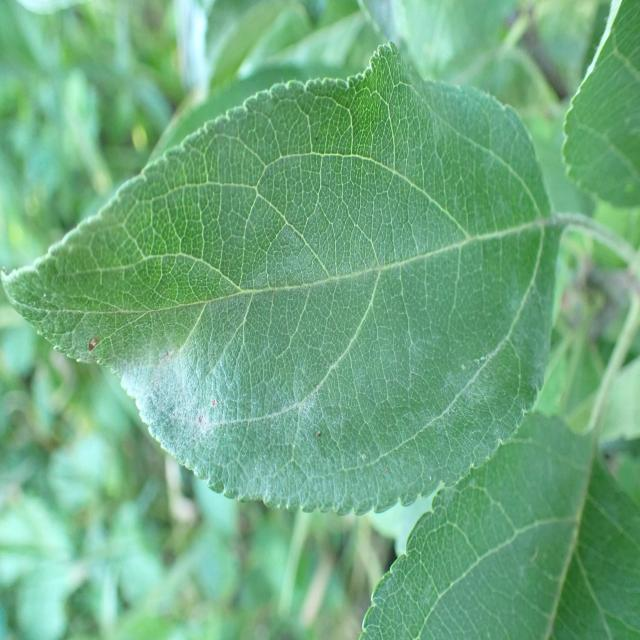Powdery_mildew: (45, 82, 549, 502)
